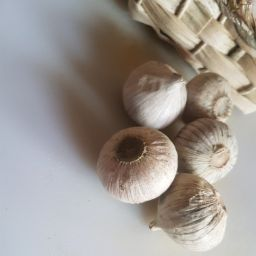Garlic cloves: (89, 117, 235, 256), (92, 123, 181, 206), (156, 166, 232, 255), (128, 53, 190, 130), (173, 117, 243, 182), (186, 67, 239, 123)
